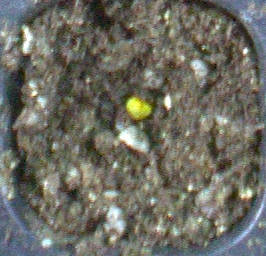chilli seed: (126, 96, 151, 120)
